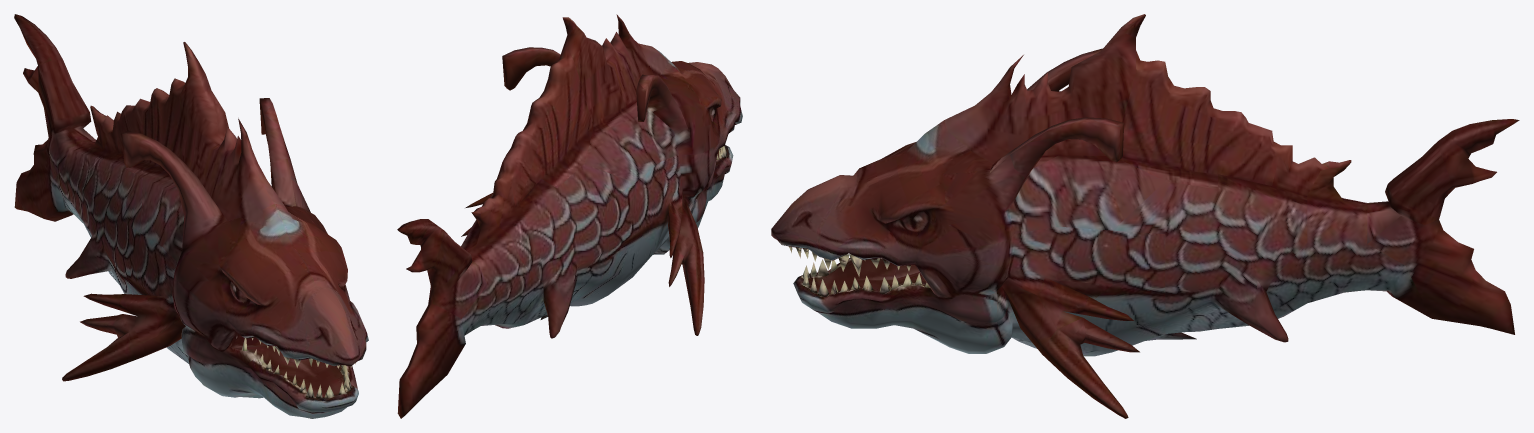
3 views of the same model, side by side, from view 1: azimuth 30°, elevation 25°; view 2: azimuth 150°, elevation 25°; view 3: azimuth 270°, elevation 25° (orthographic). The views are drawn at different scales.
Parts seen in each view (by area): view 1: yu28; view 2: yu28; view 3: yu28.
Boxes of the visible parts, x1=… form: yu28: x1=14, y1=14, x2=368, y2=418; yu28: x1=397, y1=14, x2=742, y2=418; yu28: x1=771, y1=14, x2=1519, y2=418.
Size of the model in its own units: 44.73 by 50.2 by 99.8.
Materials: 1 (1 with a texture image).
